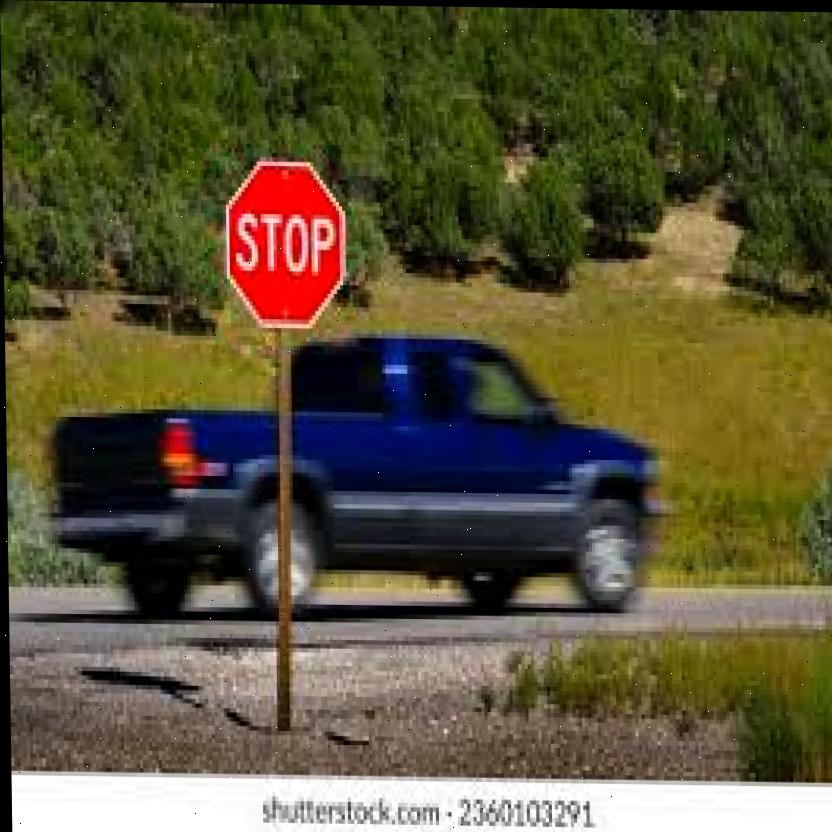Pole: (273, 327, 293, 725)
Sign: (221, 156, 343, 323)
